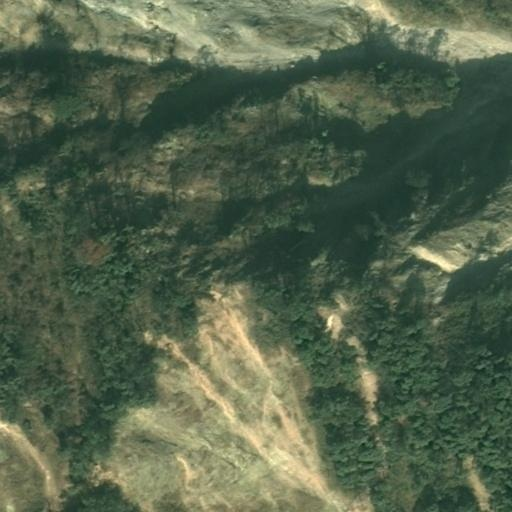landslide: (102, 281, 381, 512)
